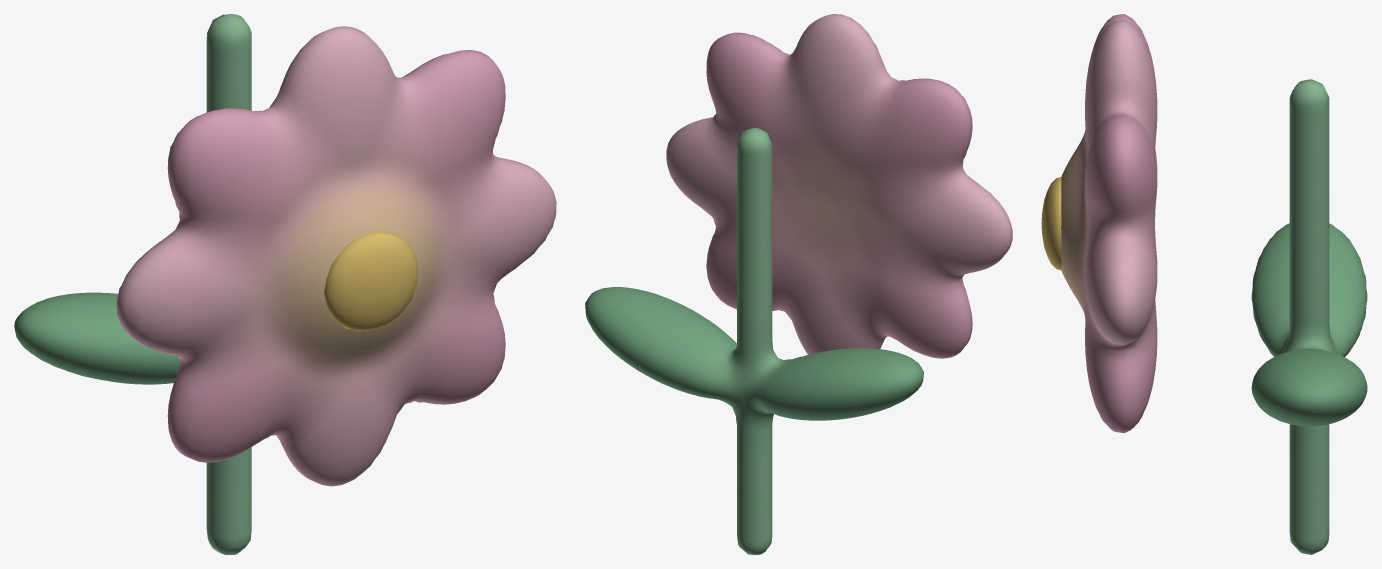
Rendered from flower.glb.
3 renders of one model, left to right at view 1: azimuth 30°, elevation 25°; view 2: azimuth 150°, elevation 25°; view 3: azimuth 270°, elevation 25°, orthographic. The views are drawn at different scales.
Visible parts, largest first — view 1: geometry_0; view 2: geometry_0; view 3: geometry_0.
Boxes of the visible parts, x1,y1,x2,y2 form: geometry_0: [14, 14, 556, 554]; geometry_0: [585, 14, 1012, 554]; geometry_0: [1041, 14, 1367, 554].
Size of the model in its own units: 1.22 by 1.61 by 0.8999.
